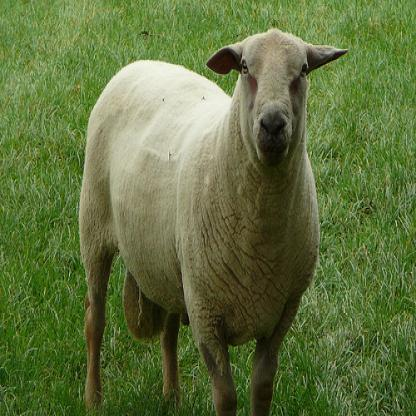sheep: (76, 25, 347, 415)
